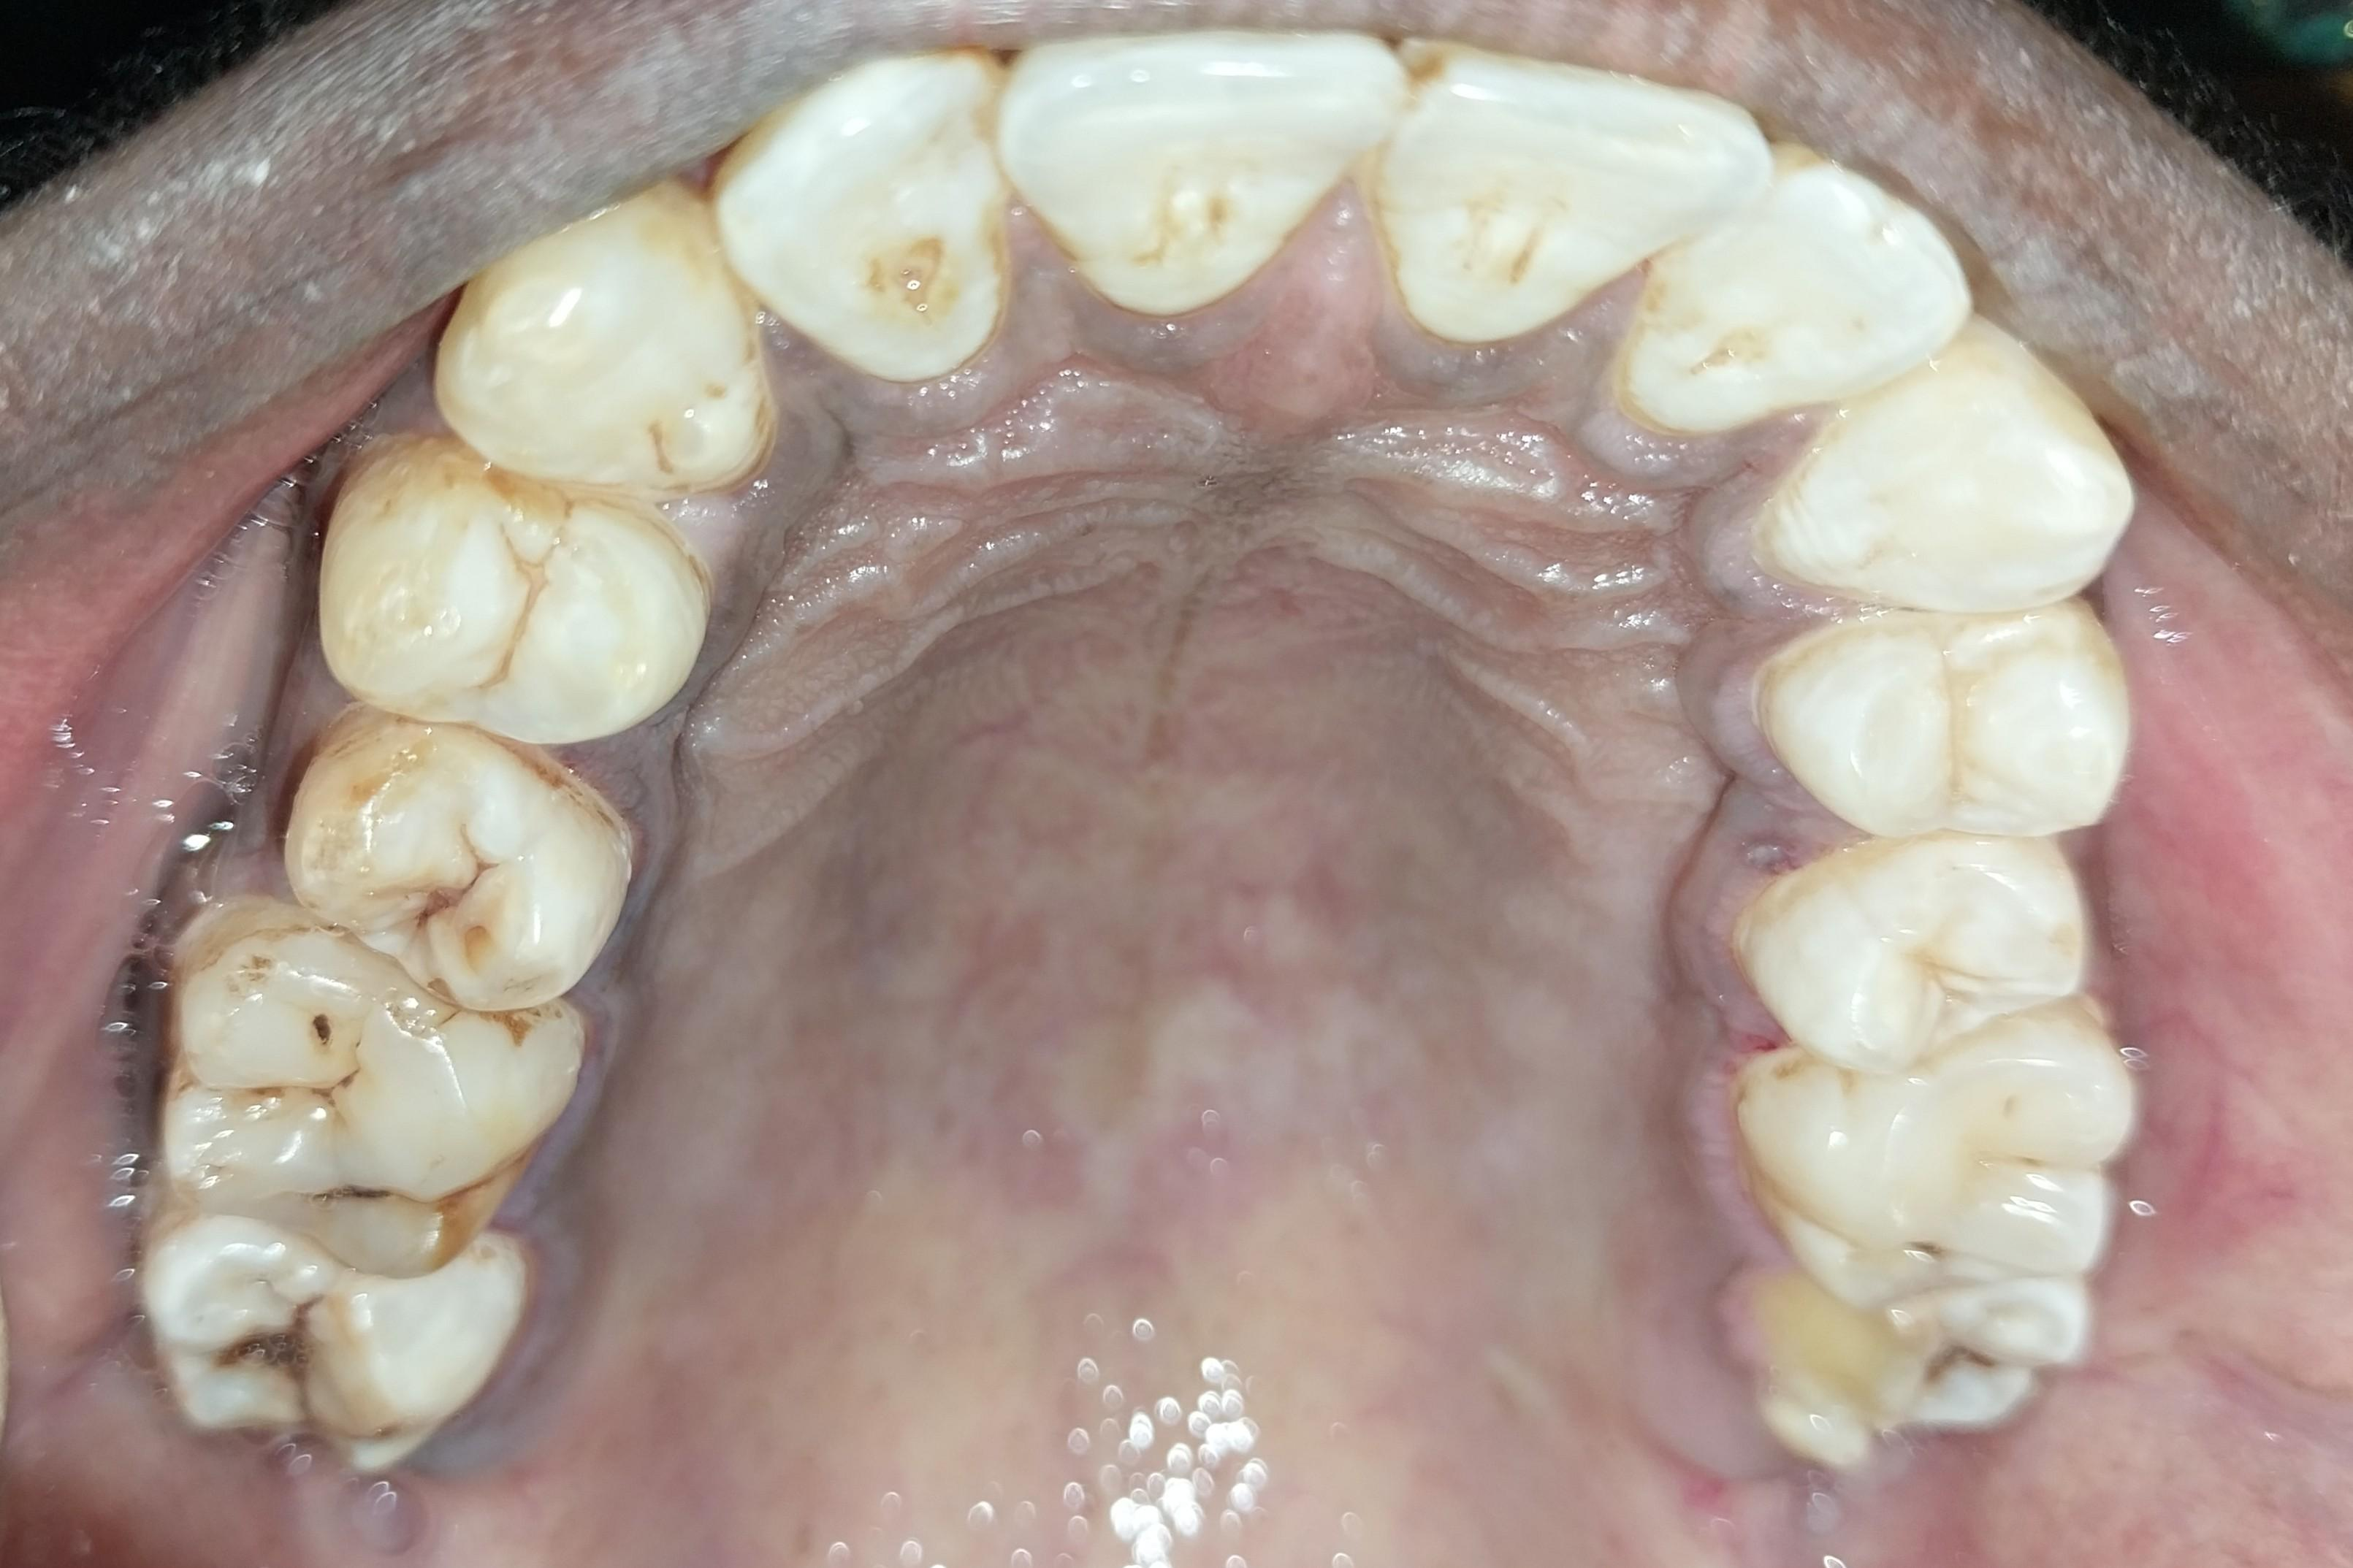D: (153, 914, 584, 1273), (126, 1211, 524, 1468), (1744, 1019, 2131, 1279), (1725, 1263, 2091, 1476)
